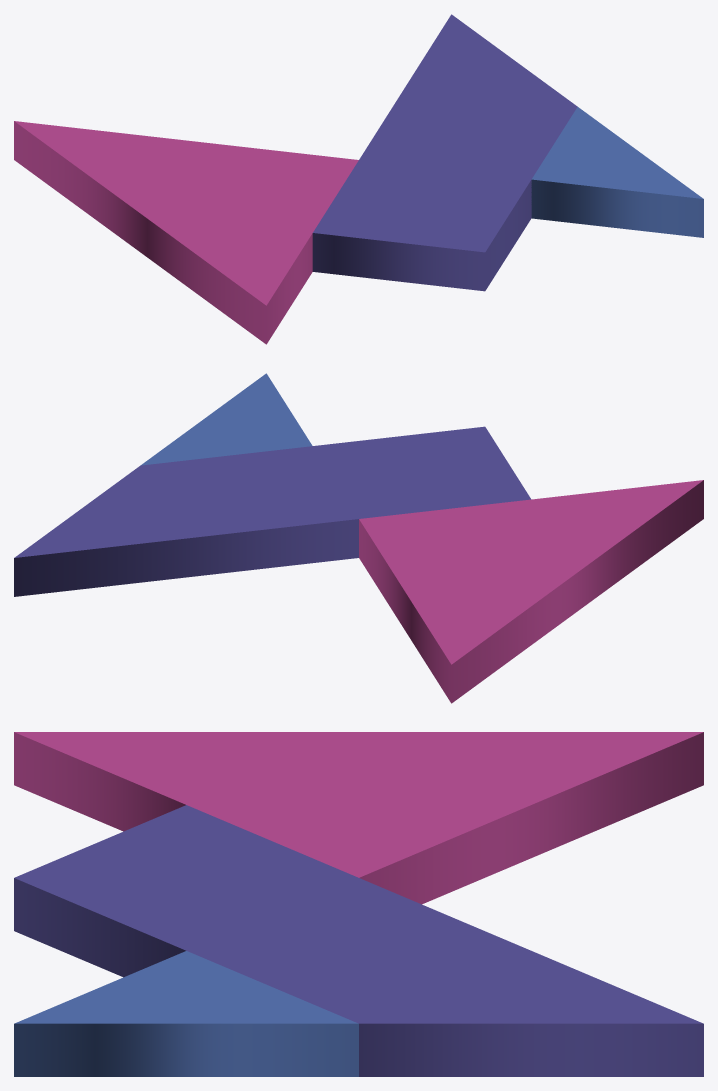
The model's file is framer-motion.gltf.
The picture shows the model from 3 angles, top to bottom: view 1: azimuth 30°, elevation 25°; view 2: azimuth 150°, elevation 25°; view 3: azimuth 270°, elevation 25°; orthographic projection. The views are drawn at different scales.
Visible parts, largest first — view 1: Curve, Curve.002, Curve.001; view 2: Curve, Curve.002, Curve.001; view 3: Curve, Curve.002, Curve.001.
Boxes of the visible parts, bbox=[...] form: Curve: bbox=[312, 14, 577, 291]; Curve.002: bbox=[14, 121, 358, 344]; Curve.001: bbox=[531, 107, 703, 237]; Curve: bbox=[14, 426, 531, 596]; Curve.002: bbox=[359, 480, 703, 703]; Curve.001: bbox=[140, 373, 312, 465]; Curve: bbox=[14, 805, 703, 1076]; Curve.002: bbox=[14, 732, 703, 904]; Curve.001: bbox=[14, 951, 358, 1076].
Size of the model in its own units: 0.7056 by 0.06 by 0.7054.
